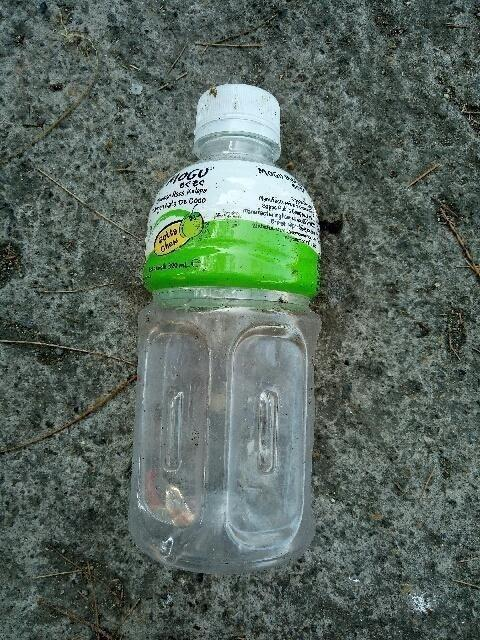bottle-plastic: (119, 78, 327, 582)
